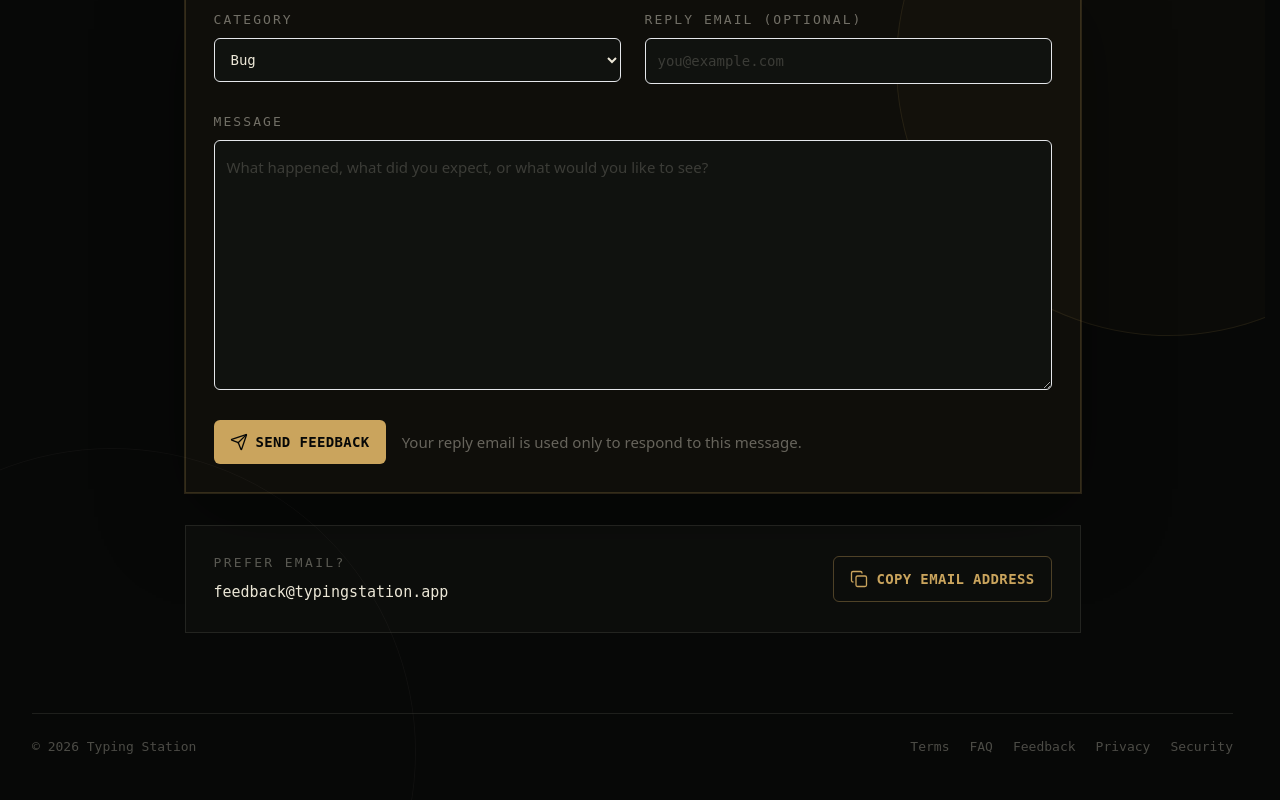
Scenario: FeedbackPage › copies the fallback email address and announces success accessibly
(page scrolled)
What coordinates should you click on to do the following:
click the button "Copy email address"
I would click on:
 (942, 579)
Its box is [834,556,1052,602].
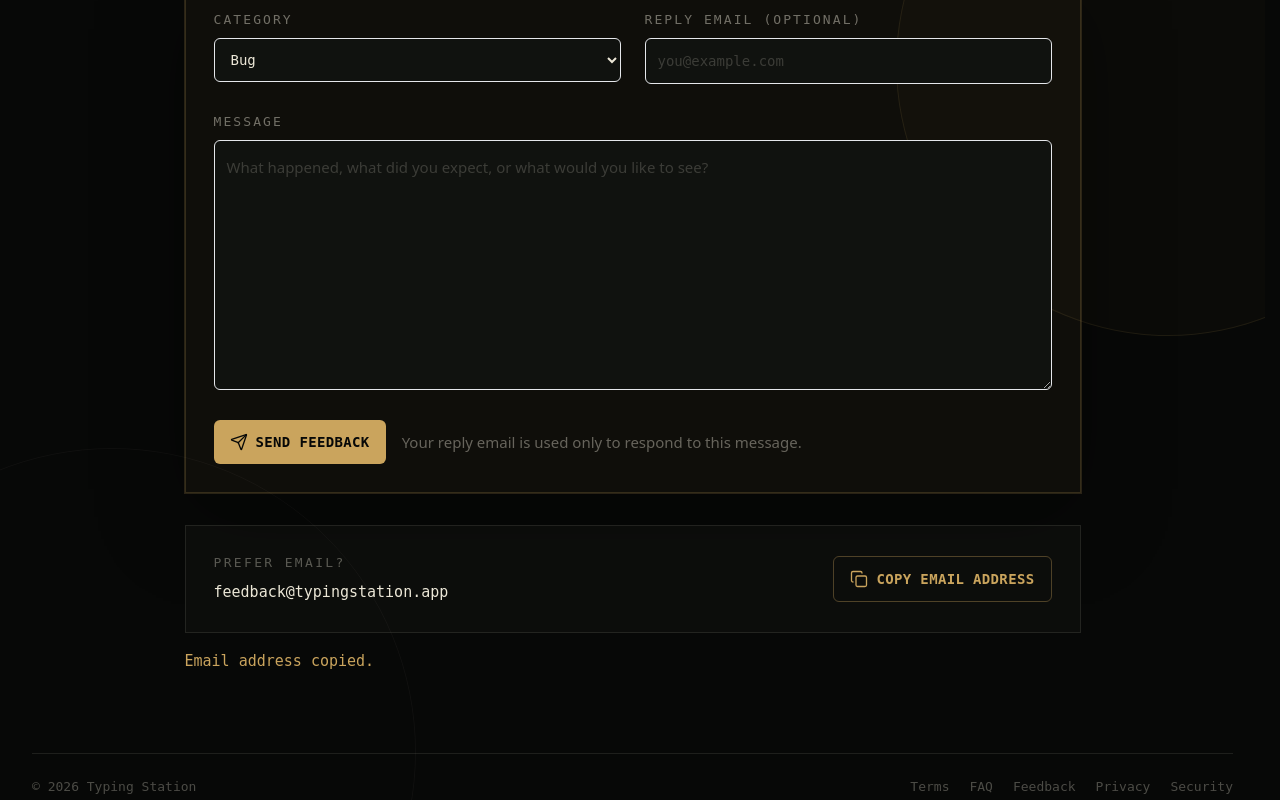
Now the message reads "Email address copied.", box [184,652,374,670]
